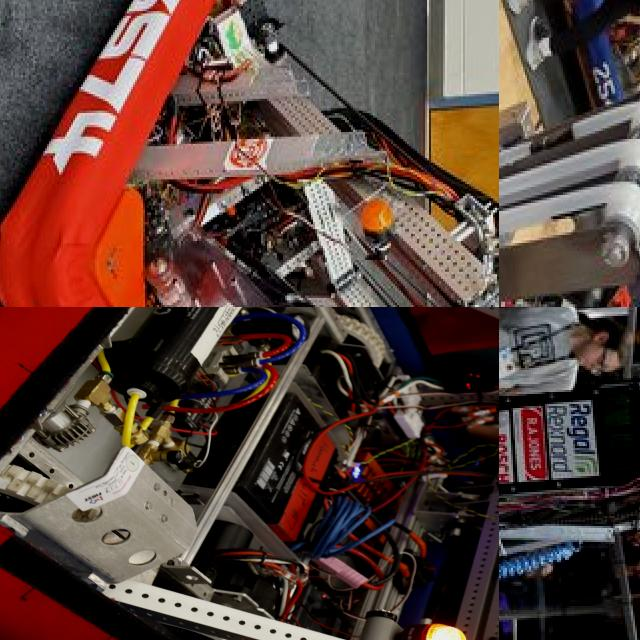FRC-Robots: (0, 307, 499, 640), (0, 0, 499, 307), (499, 307, 640, 640), (499, 62, 640, 307)
